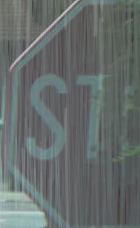Stop: (20, 25, 125, 189)
